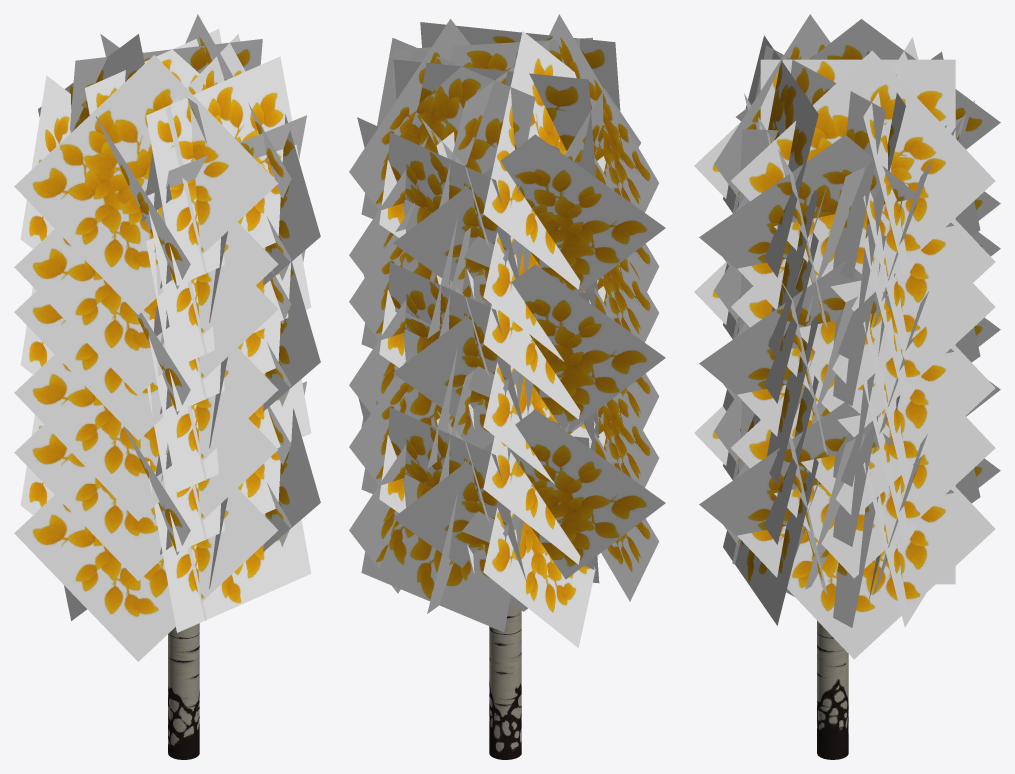
File: Tree3.fbx
3 views of the same model, side by side, from view 1: azimuth 30°, elevation 25°; view 2: azimuth 150°, elevation 25°; view 3: azimuth 270°, elevation 25° (orthographic). The views are drawn at different scales.
Visible parts, largest first — view 1: Cylinder043; view 2: Cylinder043; view 3: Cylinder043.
Boxes of the visible parts, x1,y1,x2,y2 form: Cylinder043: (14, 14, 320, 759); Cylinder043: (349, 14, 665, 759); Cylinder043: (694, 14, 1000, 759).
Size of the model in its own units: 189 by 492 by 190.
Materials: 2 (2 with a texture image).
